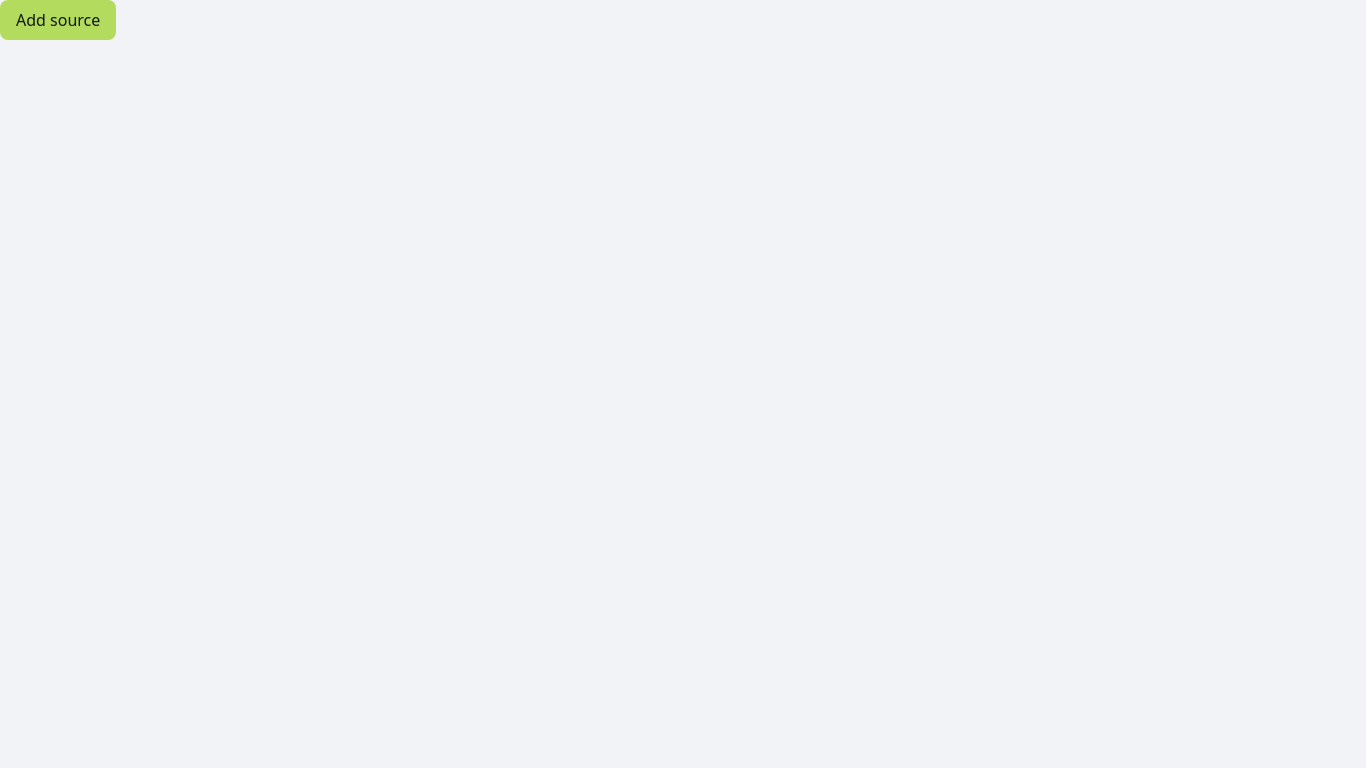
Test: add source dialog › rejects a non-http URL before sending anything
Click the button "Add source".
click(58, 20)  # box [0,0,116,40]
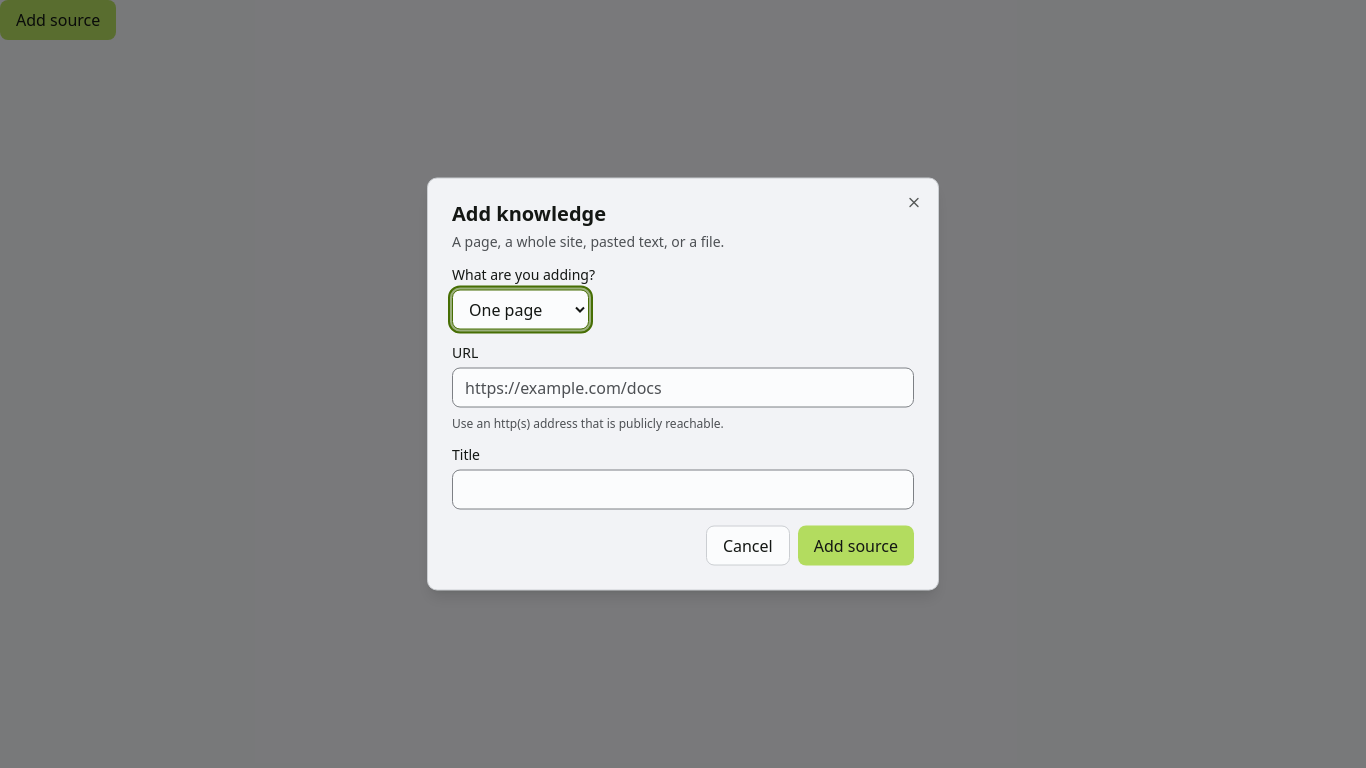
Type "ftp://docs.test" into the field labelled "URL".
click(683, 388); type("ftp://docs.test")  # box [452,368,914,408]
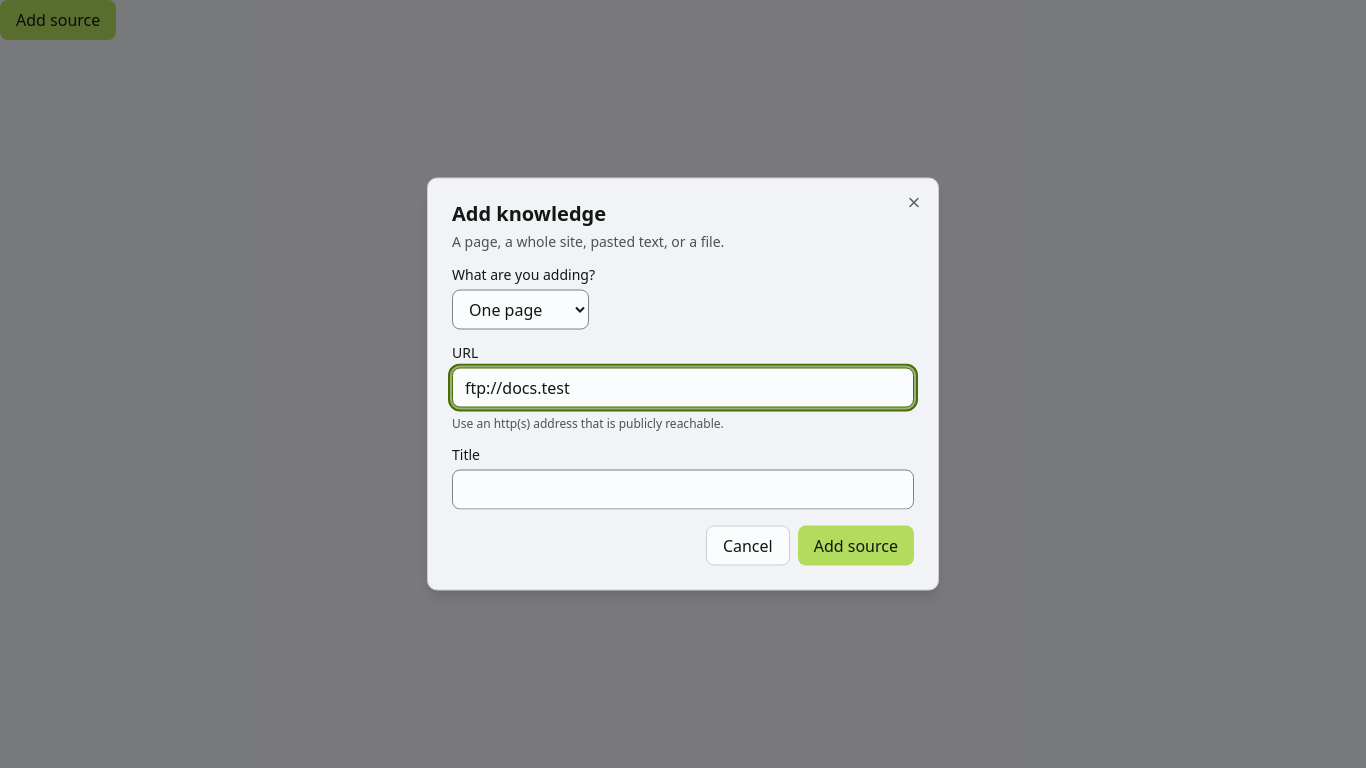
Click the button "Add source".
click(856, 546)  # box [798,526,914,566]
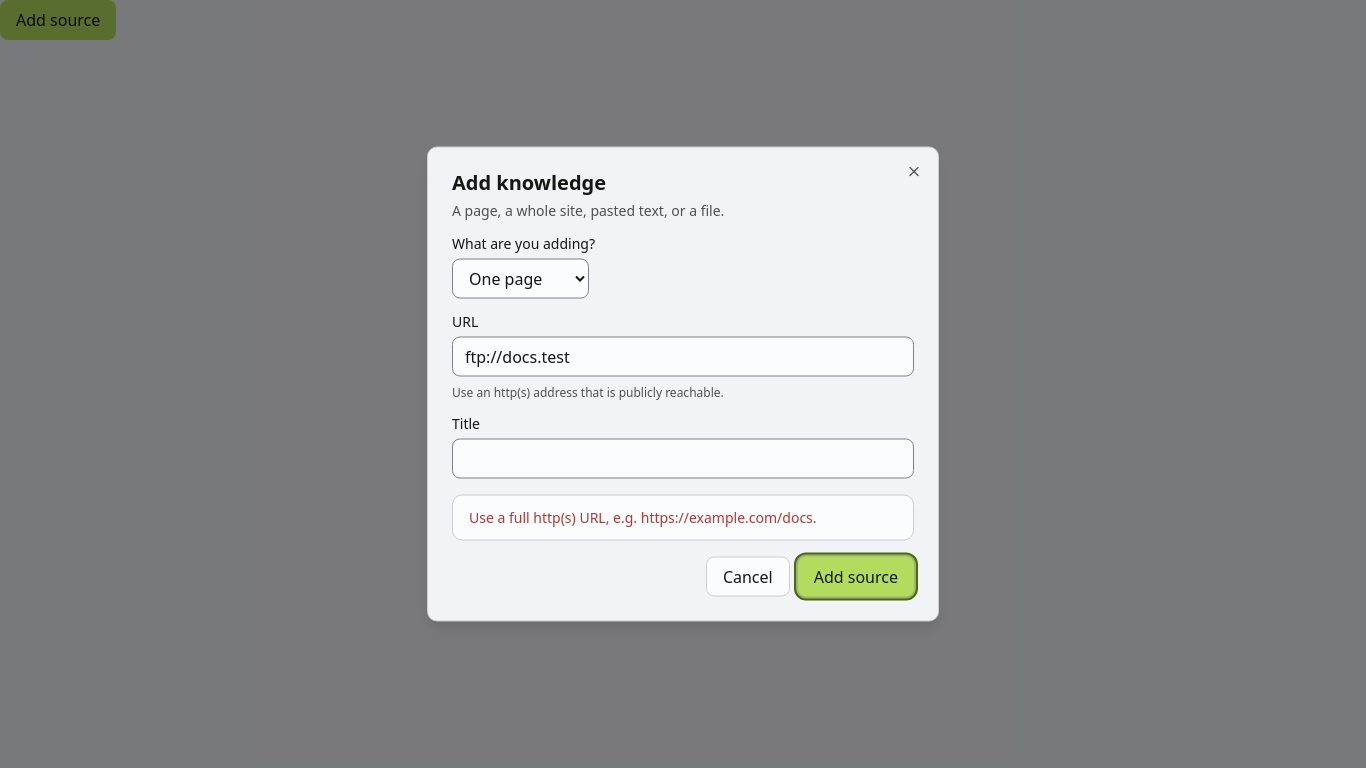
Result: the text "Use a full http(s) URL, e.g. https://example.com/docs." is shown at [469,508,817,526]
